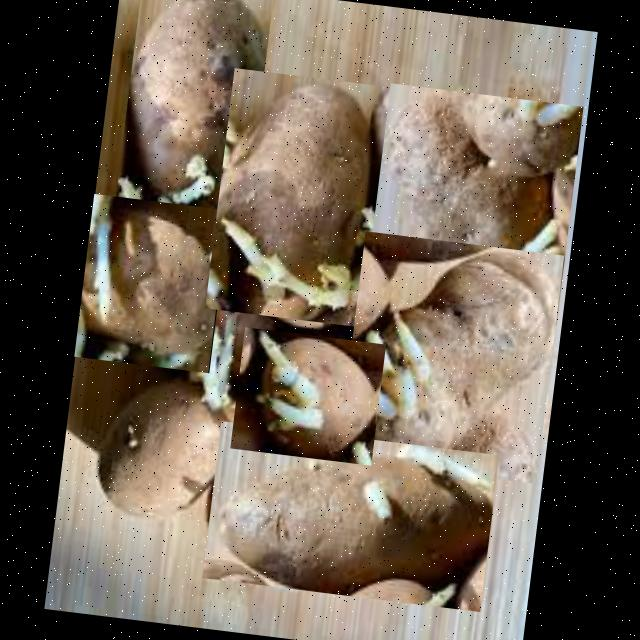Sprouted potato: (337, 231, 564, 484), (202, 420, 499, 612), (364, 83, 583, 325), (205, 68, 406, 329), (76, 318, 254, 568), (115, 0, 273, 213), (74, 194, 228, 372), (230, 327, 386, 465)
